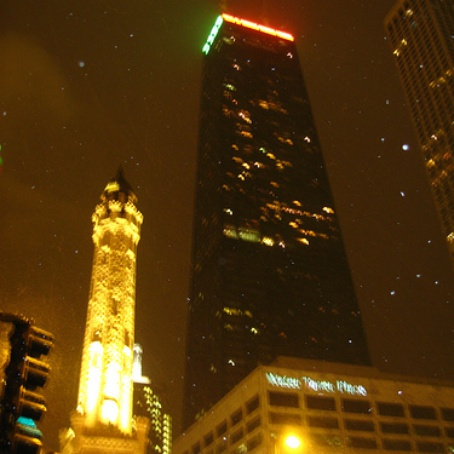building: (174, 1, 378, 423), (161, 361, 454, 454), (66, 178, 159, 454), (382, 1, 454, 291)
sky: (1, 1, 193, 181)
